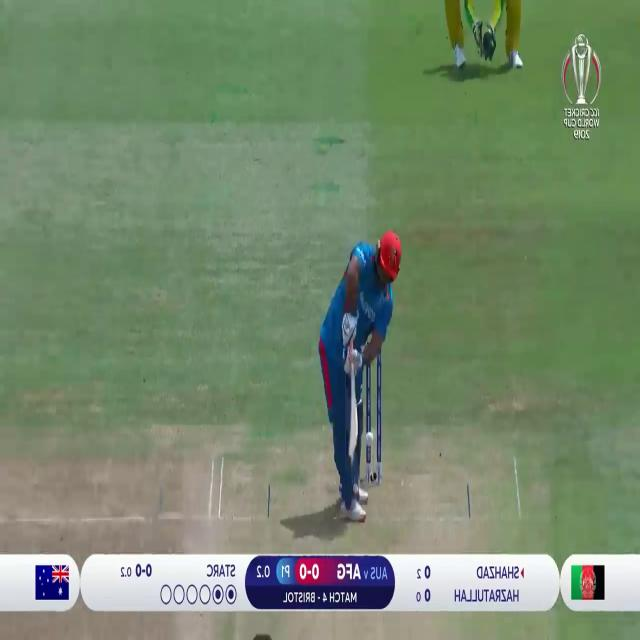ball: (364, 428, 374, 446)
